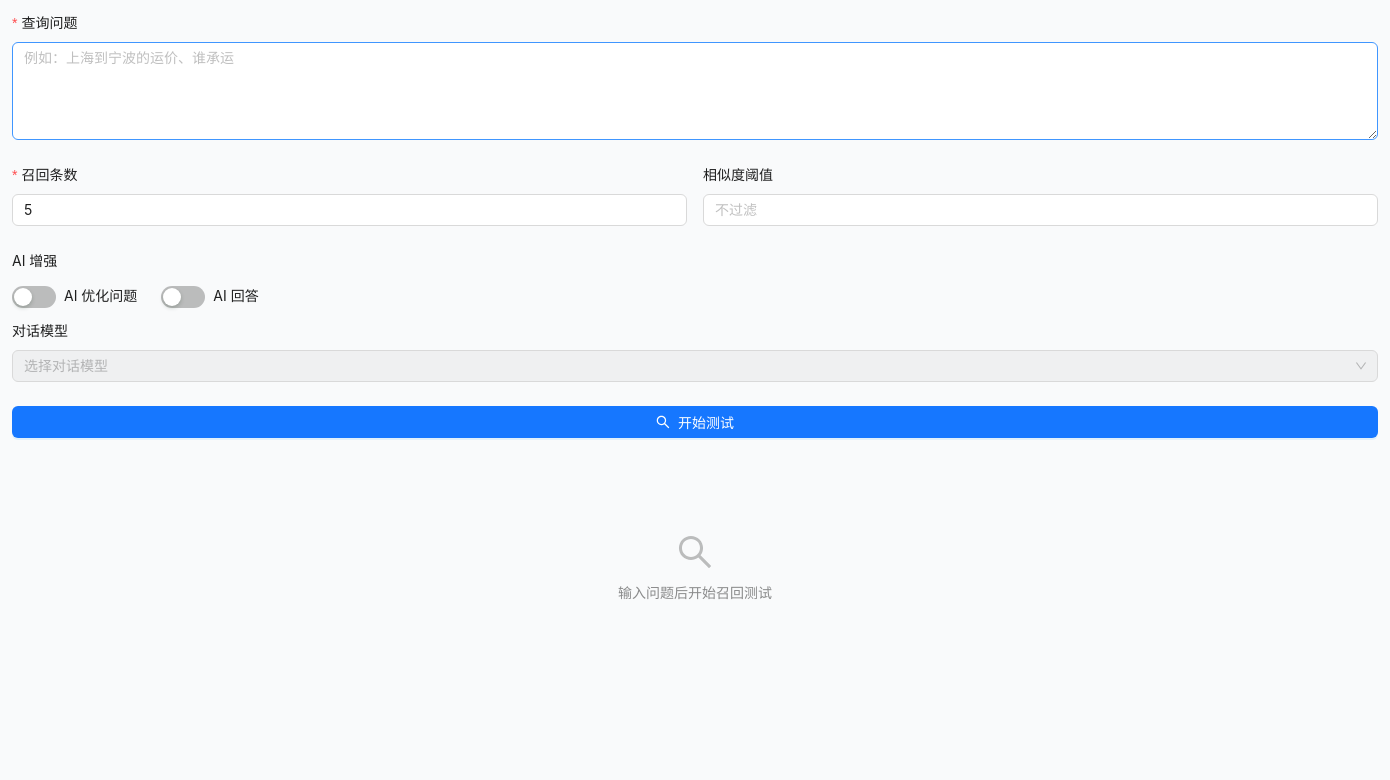
KnowledgeGraphRecallTest › 命中为空时渲染空态提示
Type "不存在" into the text box at (695, 91), box [12,42,1378,140]
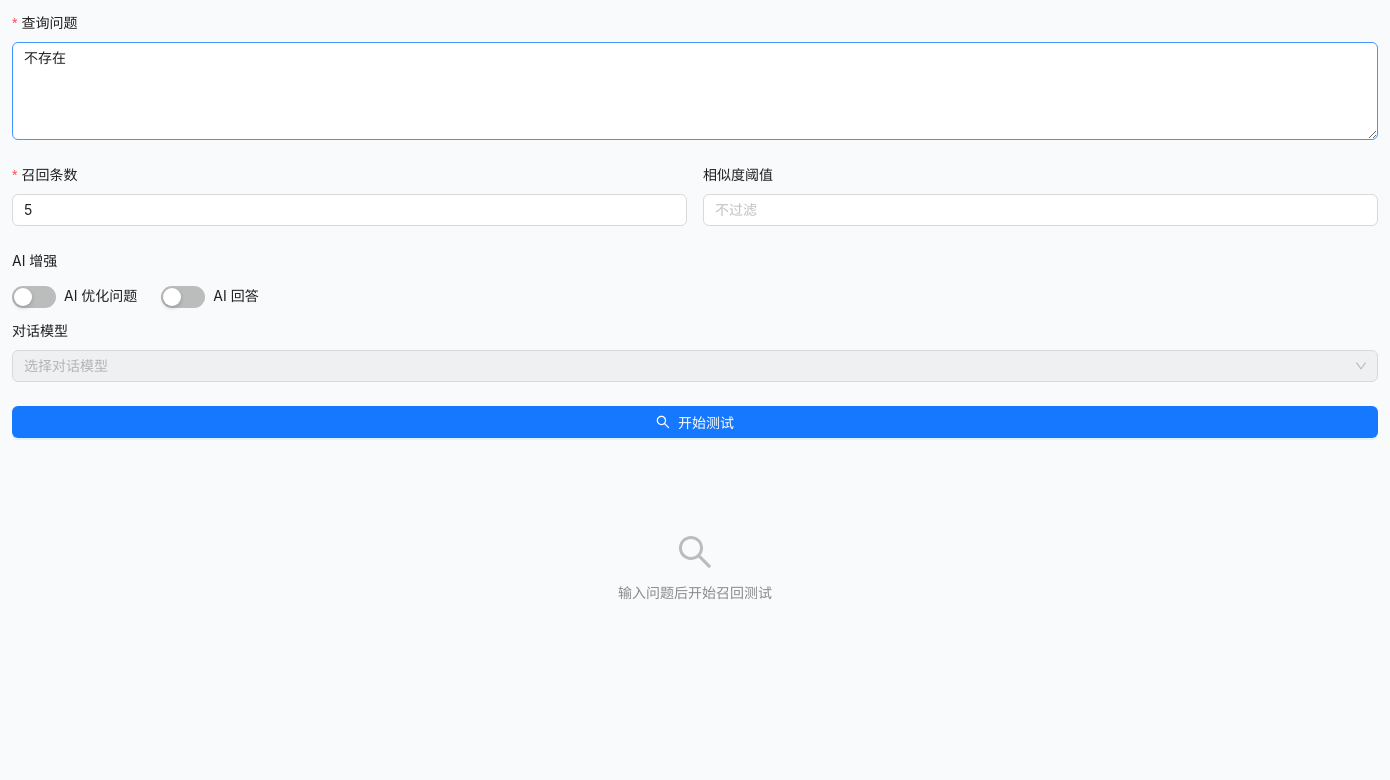
Click the button "开始测试" at (695, 422), box [12,406,1378,438]
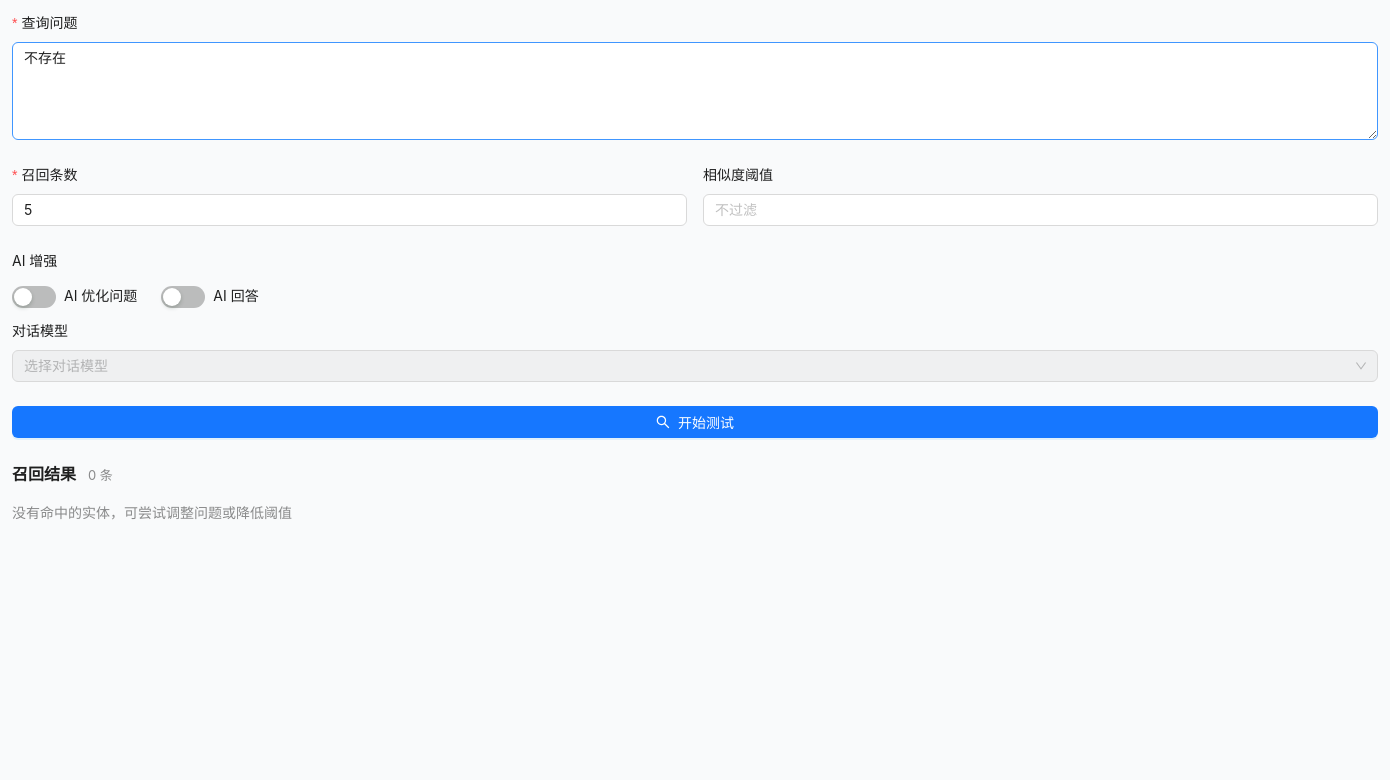
Result: the text "没有命中的实体，可尝试调整问题或降低阈值" is shown at [12,504,292,521]
